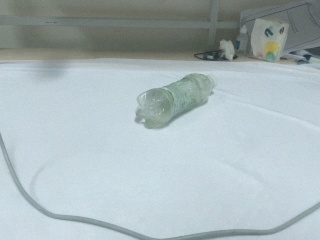bottle: (134, 70, 218, 130)
